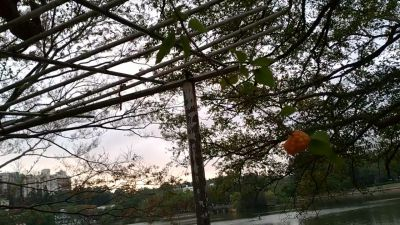eggs: (285, 130, 311, 154)
